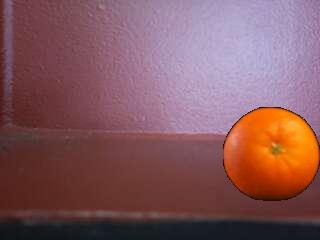Orange: (223, 108, 319, 202)
